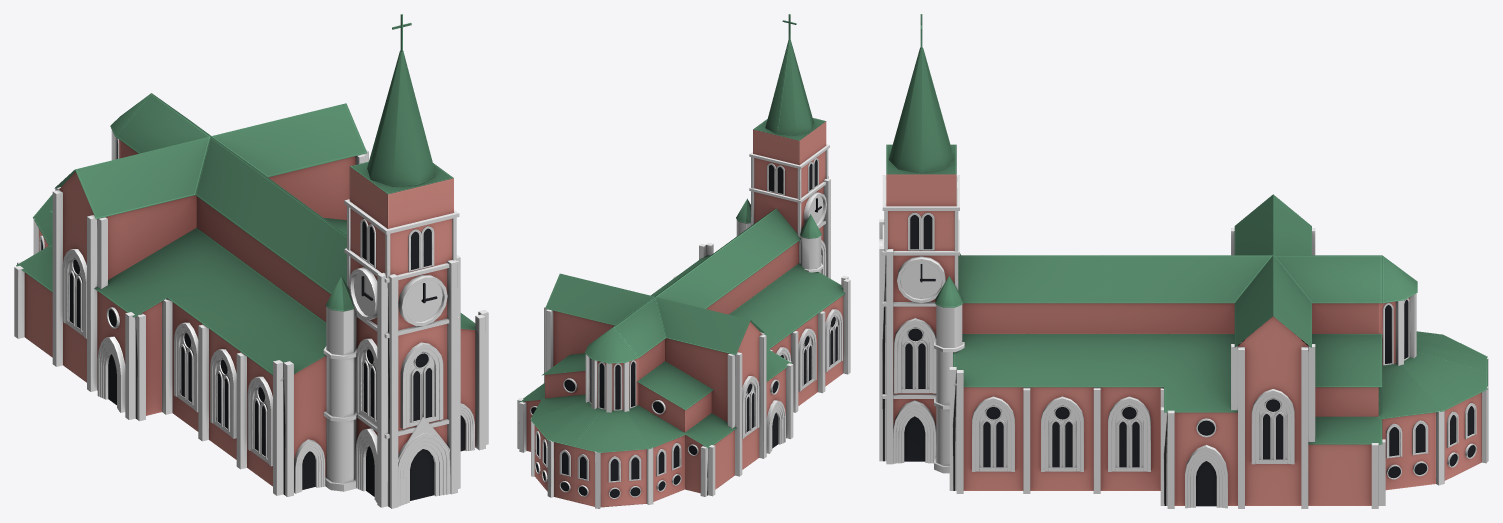
File: Myoungdong_Cathedral.glb
The picture shows the model from 3 angles, left to right: view 1: azimuth 30°, elevation 25°; view 2: azimuth 150°, elevation 25°; view 3: azimuth 270°, elevation 25°; orthographic projection. The views are drawn at different scales.
Parts seen in each view (by area): view 1: Cathedral; view 2: Cathedral; view 3: Cathedral.
Part boxes in pixels (x1,y1,x2,y2): Cathedral: (14,14,488,508); Cathedral: (517,14,850,508); Cathedral: (879,14,1488,508).
Size of the model in its own units: 0.84 by 1.36 by 1.73.
5 materials, 5 textured.
